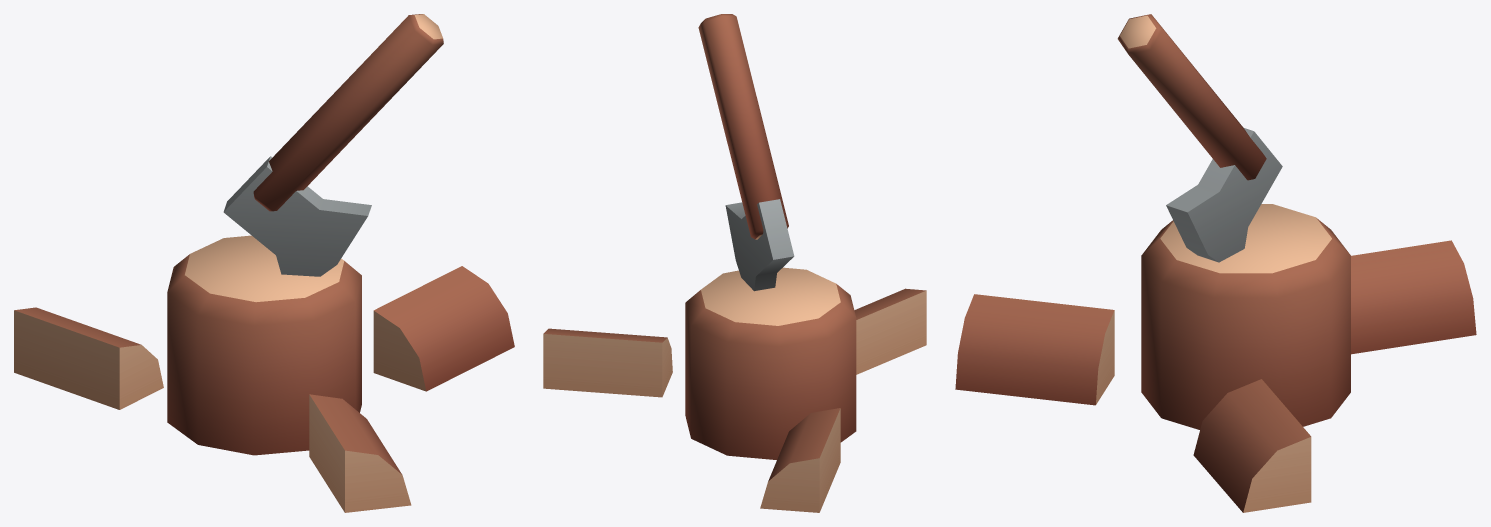
The model's file is chopping_block.fbx.
The picture shows the model from 3 angles, left to right: view 1: azimuth 30°, elevation 25°; view 2: azimuth 150°, elevation 25°; view 3: azimuth 270°, elevation 25°; orthographic projection. The views are drawn at different scales.
Visible parts, largest first — view 1: chopping_block; view 2: chopping_block; view 3: chopping_block.
Boxes of the visible parts, left/top/right/bottom form: chopping_block: left=14, top=14, right=514, bottom=512; chopping_block: left=543, top=14, right=926, bottom=512; chopping_block: left=955, top=14, right=1476, bottom=512.
Bounding box in the file's own units: 0.6061 × 0.5876 × 0.6456.
1 material, 1 textured.
